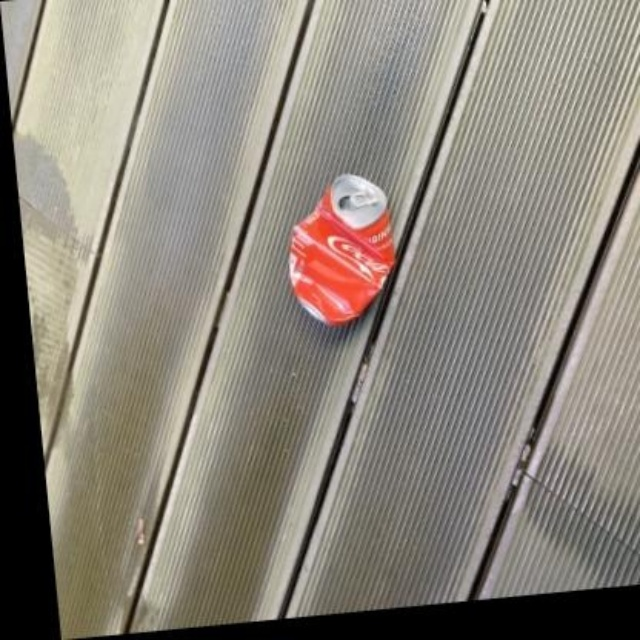trash: (289, 174, 392, 325)
